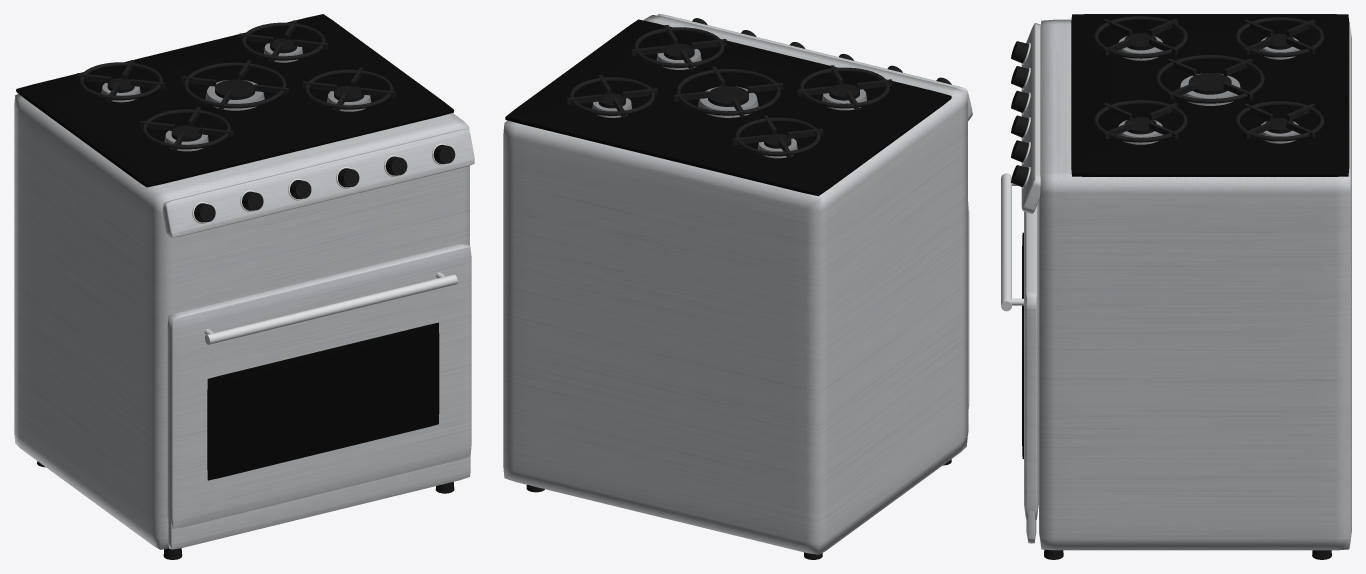
Rendered from fogao-5-bocas.glb.
The picture shows the model from 3 angles, left to right: view 1: azimuth 30°, elevation 25°; view 2: azimuth 150°, elevation 25°; view 3: azimuth 270°, elevation 25°; orthographic projection. The views are drawn at different scales.
Visible parts, largest first — view 1: Corpo, Porta_Forno, Mesa_Vidro, Visor_Forno, Painel_Comandos, Gaveta, Puxador_Forno, Trempe_Aro_5, Trempe_Aro_3, Trempe_Aro_4, Trempe_Aro_1, Trempe_Aro_2 (+1 smaller); view 2: Corpo, Mesa_Vidro, Trempe_Aro_5, Trempe_Aro_3, Painel_Comandos, Trempe_Aro_4, Trempe_Aro_1, Trempe_Aro_2, Tampa_5, Queimador_5; view 3: Corpo, Mesa_Vidro, Porta_Forno, Painel_Comandos, Puxador_Forno, Trempe_Aro_5, Trempe_Aro_3, Trempe_Aro_4, Trempe_Aro_1, Trempe_Aro_2, Tampa_5, Queimador_5 (+1 smaller).
Boxes of the visible parts, x1,y1,x2,y2 form: Corpo: [14, 94, 469, 549]; Porta_Forno: [167, 243, 471, 528]; Mesa_Vidro: [16, 14, 453, 187]; Visor_Forno: [207, 322, 439, 480]; Painel_Comandos: [163, 129, 474, 237]; Gaveta: [168, 456, 470, 549]; Puxador_Forno: [205, 274, 457, 344]; Trempe_Aro_5: [183, 62, 286, 108]; Trempe_Aro_3: [142, 109, 231, 149]; Trempe_Aro_4: [304, 69, 393, 109]; Trempe_Aro_1: [79, 62, 163, 100]; Trempe_Aro_2: [241, 22, 325, 60]; Corpo: [503, 15, 967, 554]; Mesa_Vidro: [505, 19, 951, 196]; Trempe_Aro_5: [676, 69, 780, 115]; Trempe_Aro_3: [799, 67, 889, 108]; Painel_Comandos: [657, 14, 972, 121]; Trempe_Aro_4: [634, 27, 724, 67]; Trempe_Aro_1: [735, 117, 820, 156]; Trempe_Aro_2: [569, 77, 655, 115]; Tampa_5: [708, 86, 748, 106]; Queimador_5: [698, 86, 758, 117]; Corpo: [1039, 19, 1351, 550]; Mesa_Vidro: [1071, 14, 1349, 176]; Porta_Forno: [1024, 201, 1038, 520]; Painel_Comandos: [1021, 23, 1040, 213]; Puxador_Forno: [1001, 173, 1011, 311]; Trempe_Aro_5: [1155, 55, 1264, 103]; Trempe_Aro_3: [1093, 16, 1187, 58]; Trempe_Aro_4: [1093, 100, 1187, 142]; Trempe_Aro_1: [1235, 17, 1324, 57]; Trempe_Aro_2: [1235, 101, 1324, 141]; Tampa_5: [1188, 73, 1231, 94]; Queimador_5: [1180, 73, 1240, 105].
Bounding box in the file's own units: 0.77 × 0.908 × 0.706.
Materials: 6 (1 with a texture image).
